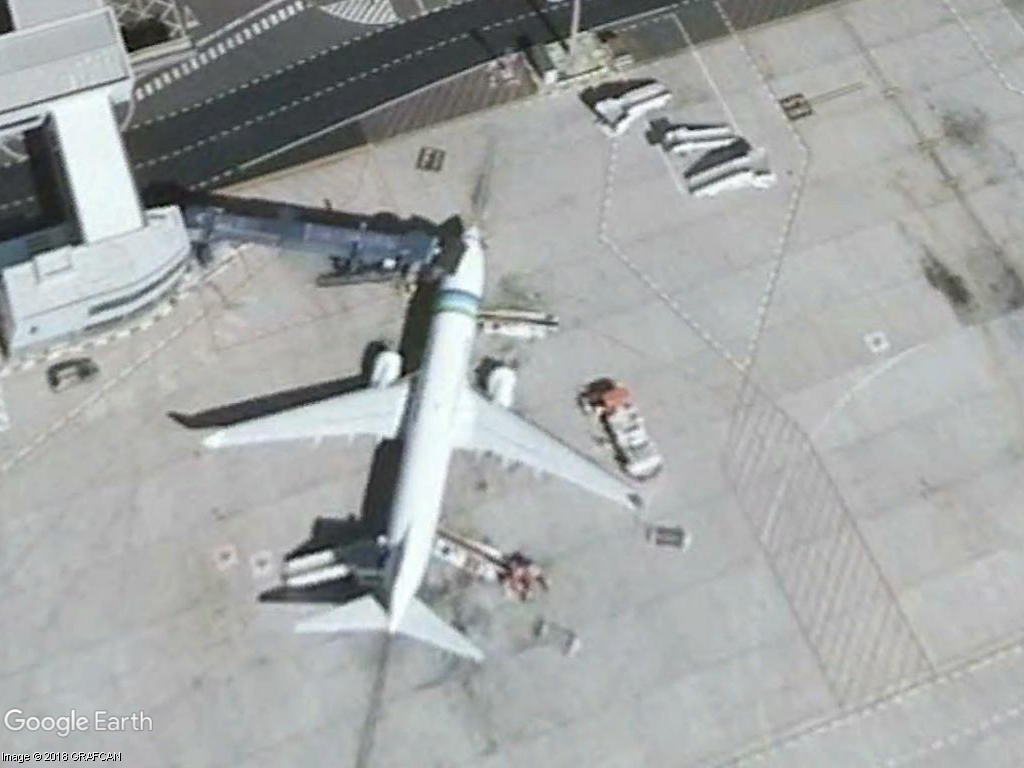airliner: (182, 200, 673, 690)
stairtruck: (677, 148, 785, 204), (578, 79, 677, 136), (643, 113, 750, 163)
